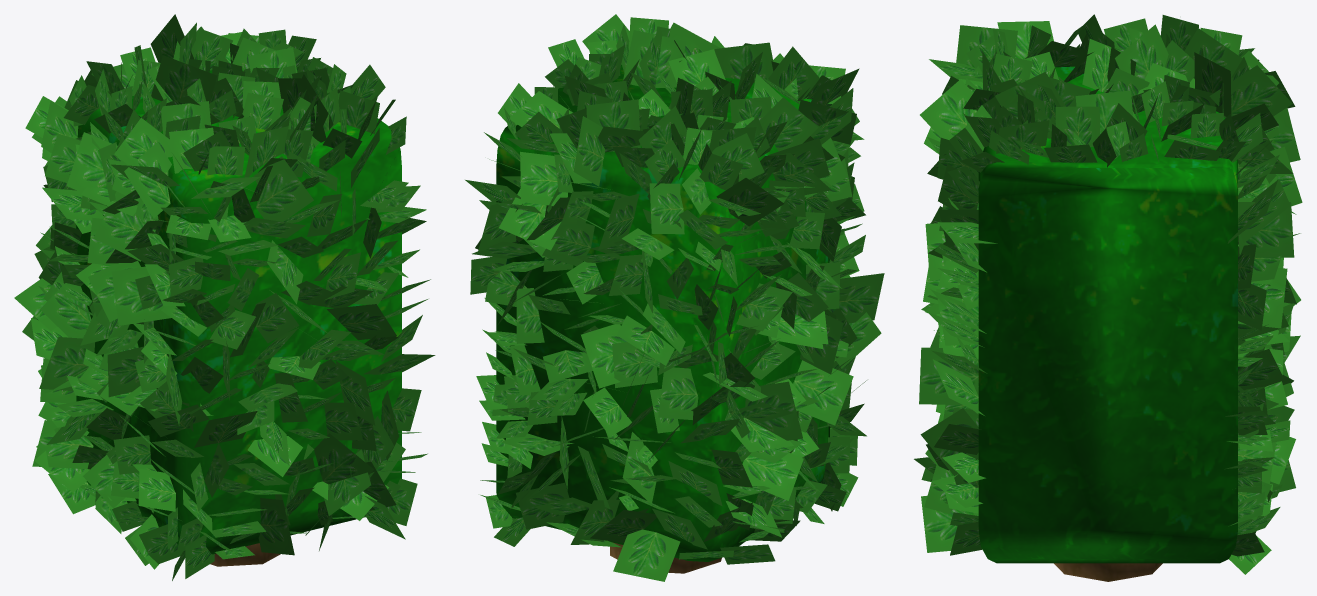
File: sb_obj_outdoor012_Hedge01b.fbx
3 renders of one model, left to right at view 1: azimuth 30°, elevation 25°; view 2: azimuth 150°, elevation 25°; view 3: azimuth 270°, elevation 25°, orthographic. The views are drawn at different scales.
Parts seen in each view (by area): view 1: leaf_plus_b, sb_obj_outdoor012_Hedge01b; view 2: leaf_plus_b, sb_obj_outdoor012_Hedge01b; view 3: sb_obj_outdoor012_Hedge01b, leaf_plus_b.
Part boxes in pixels (left/top/right/bottom): leaf_plus_b: left=14, top=14, right=435, bottom=580; sb_obj_outdoor012_Hedge01b: left=75, top=70, right=401, bottom=566; leaf_plus_b: left=465, top=14, right=884, bottom=581; sb_obj_outdoor012_Hedge01b: left=496, top=64, right=829, bottom=573; sb_obj_outdoor012_Hedge01b: left=978, top=66, right=1237, bottom=581; leaf_plus_b: left=914, top=14, right=1302, bottom=574.
Size of the model in its own units: 1.36 by 2.15 by 1.5.
